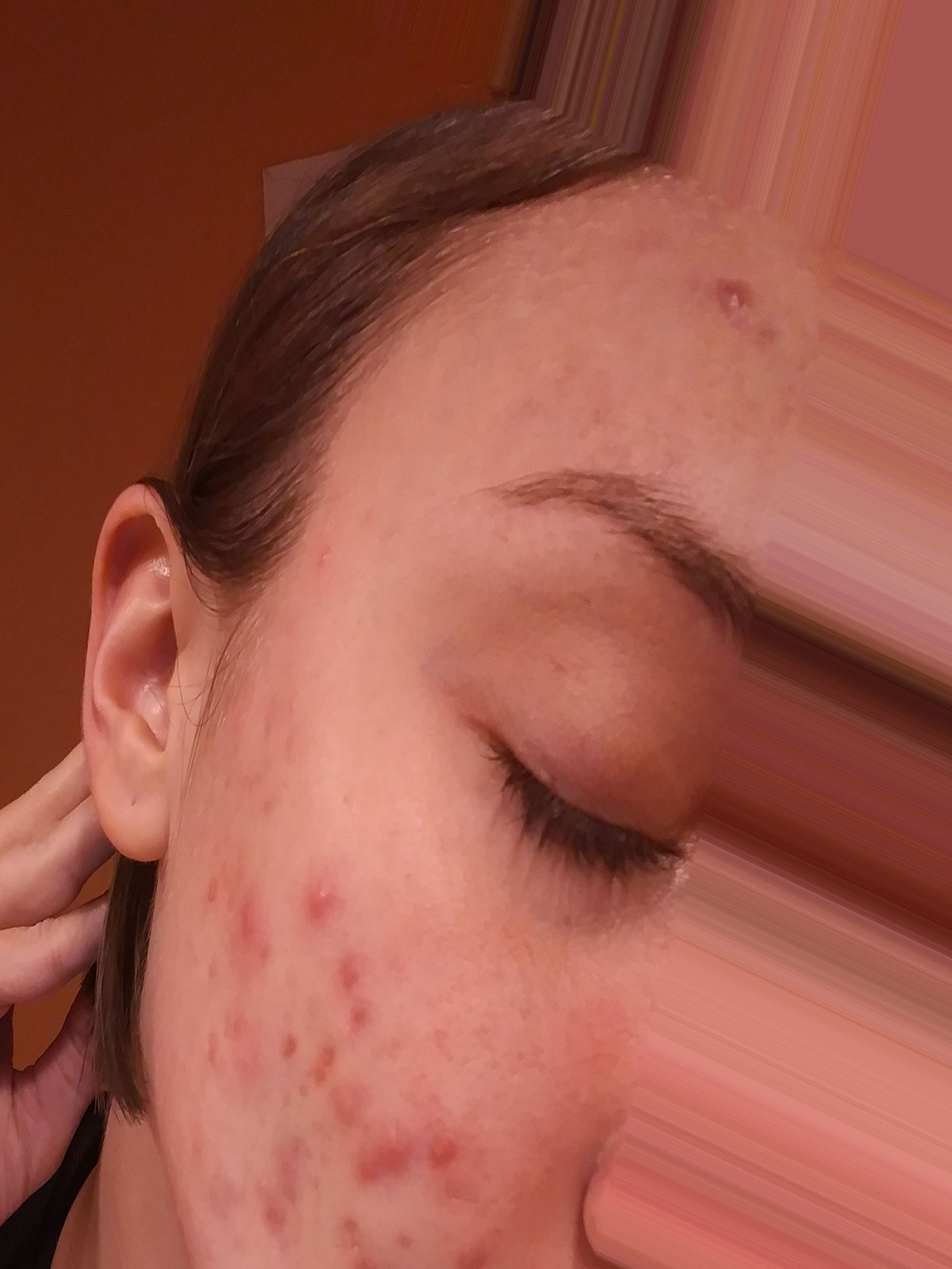Acne: (197, 792, 526, 1268)
